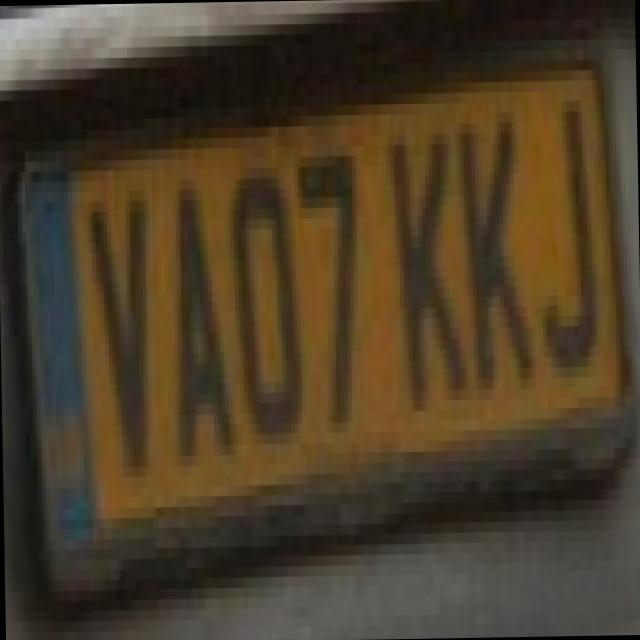LicensePlate: (11, 59, 640, 569)
